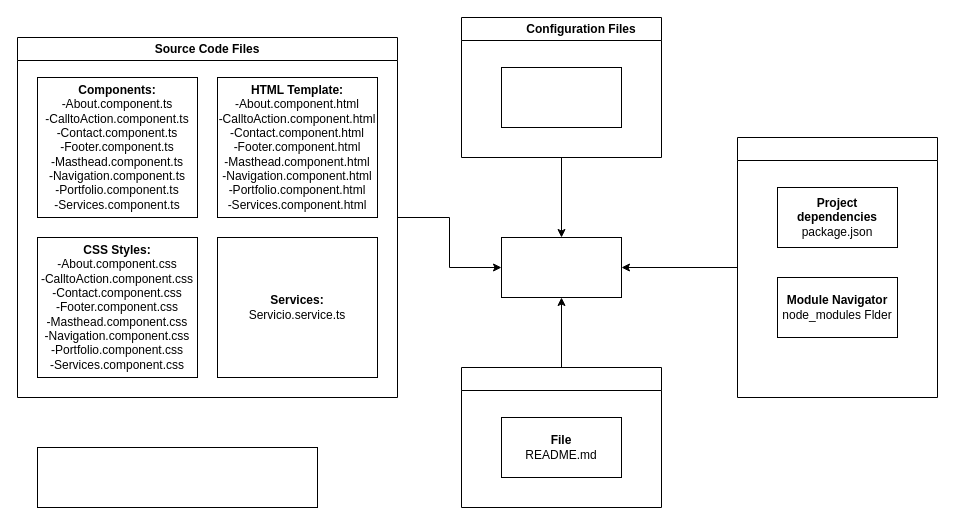
This 955x525 diagram has some shape labels left out. Here are the shapes that lost their labels. From the top down, the box of each, then its label:
(500, 66, 622, 128): File angular.json
(500, 236, 622, 298): Proyecto-Angular
(736, 136, 938, 398): Libraries
(460, 366, 662, 508): Baselines
(36, 446, 318, 508): Repository Link: https://github.com/EZambranoFx/Proyecto-Angular.git
